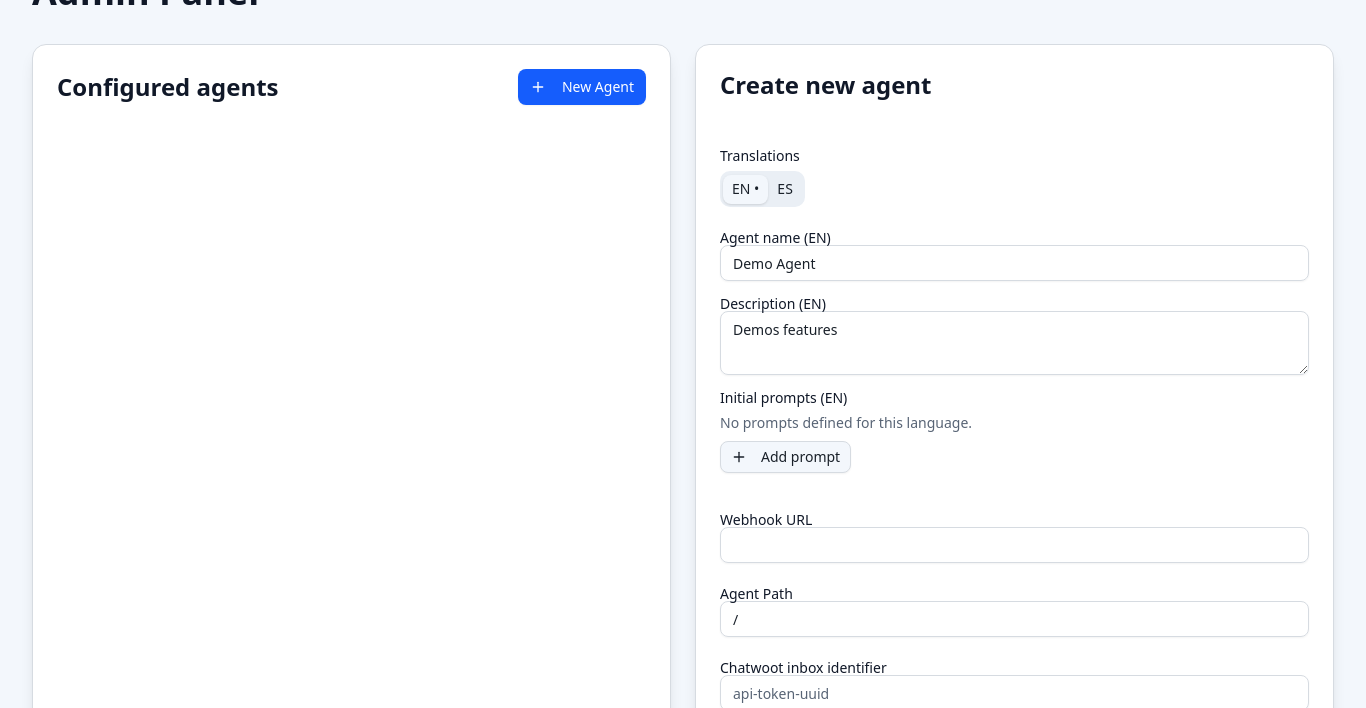
AdminPanelClient › creates a new agent via supabase insert
Earlier steps of the test are not shown.
Click the button "Add prompt" at (786, 457), box [720, 441, 851, 473]
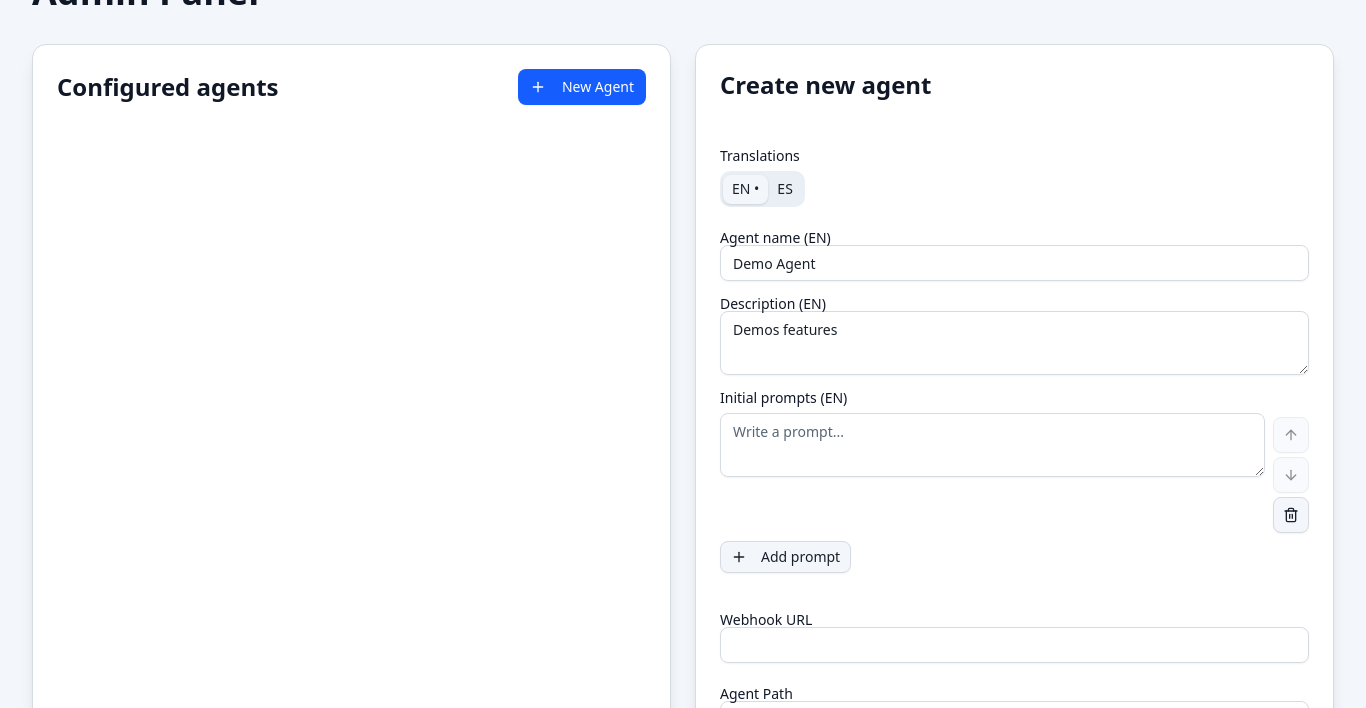
Type "Please describe your issue." into the text box named "Prompt 1 (EN)" at (992, 445), box [720, 413, 1265, 477]
Type "https://example.com/hook" into the field labelled "Webhook URL" at (1014, 645), box [720, 627, 1309, 663]
(page scrolled)
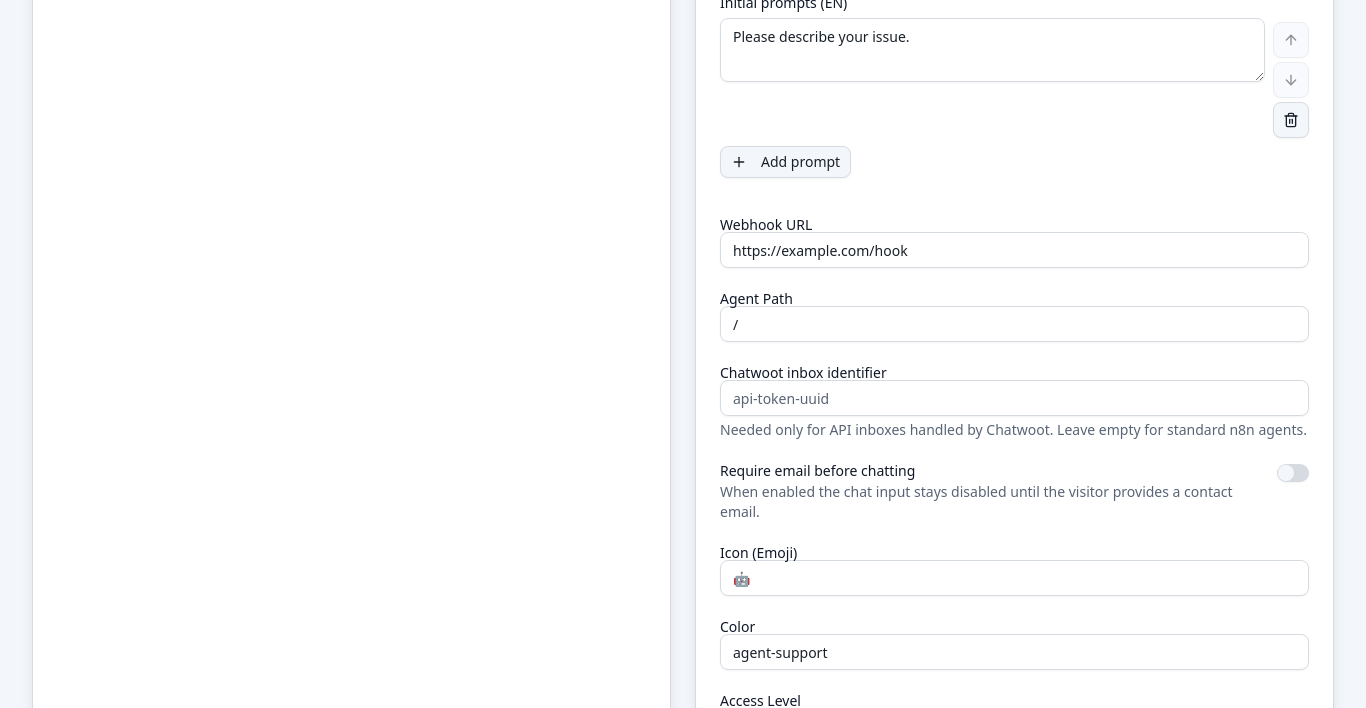
Replace the text in the field labelled "Agent Path" with "/demo" at (1014, 324), box [720, 306, 1309, 342]
Replace the text in the field labelled "Icon (Emoji)" with "✨" at (1014, 578), box [720, 560, 1309, 596]
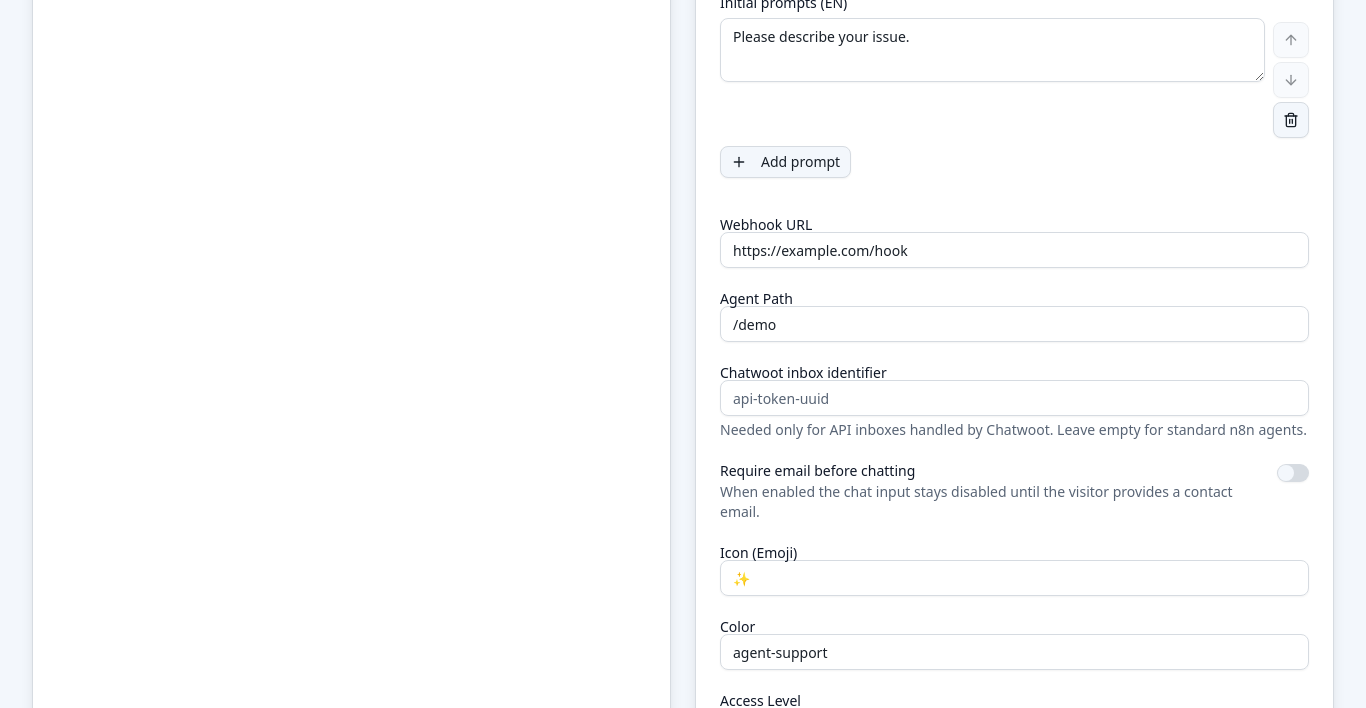
Type "inbox-api" into the field labelled "Chatwoot inbox identifier" at (1014, 398), box [720, 380, 1309, 416]
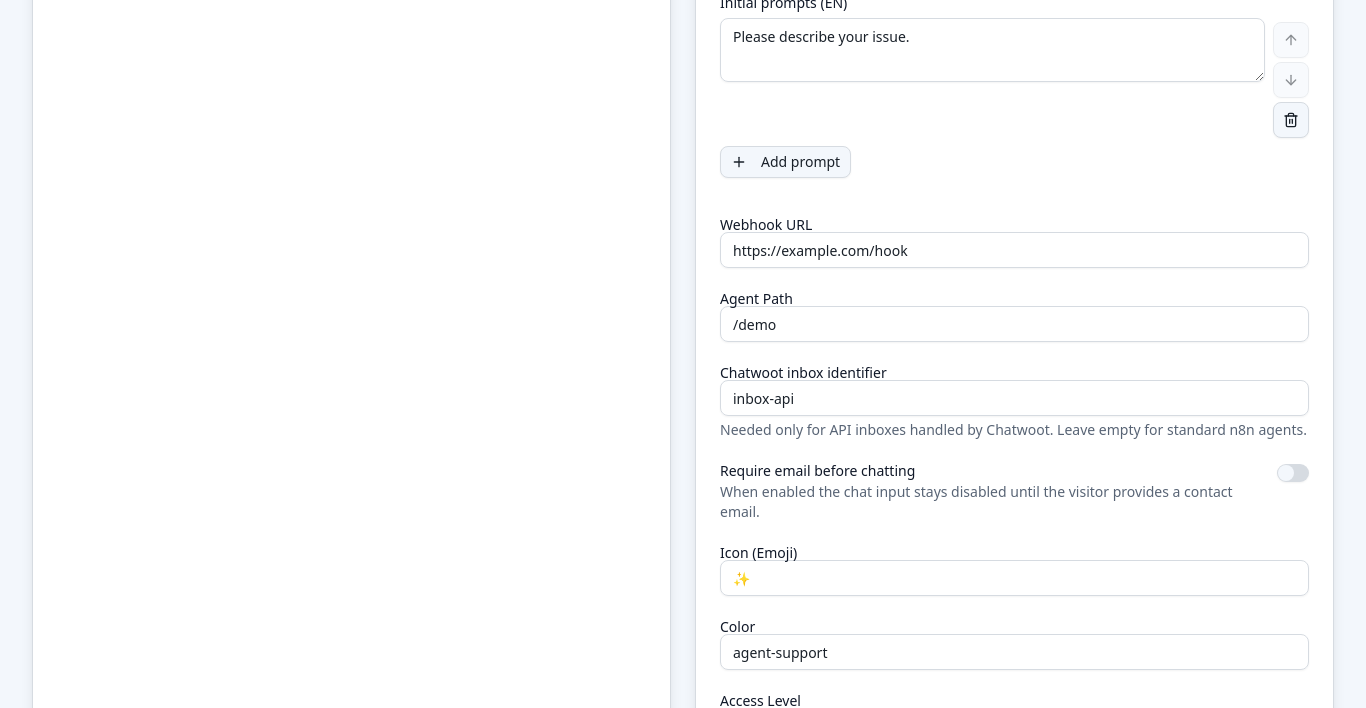
Click the switch named "Require email before chatting" at (1293, 473), box [1277, 464, 1309, 482]
(page scrolled)
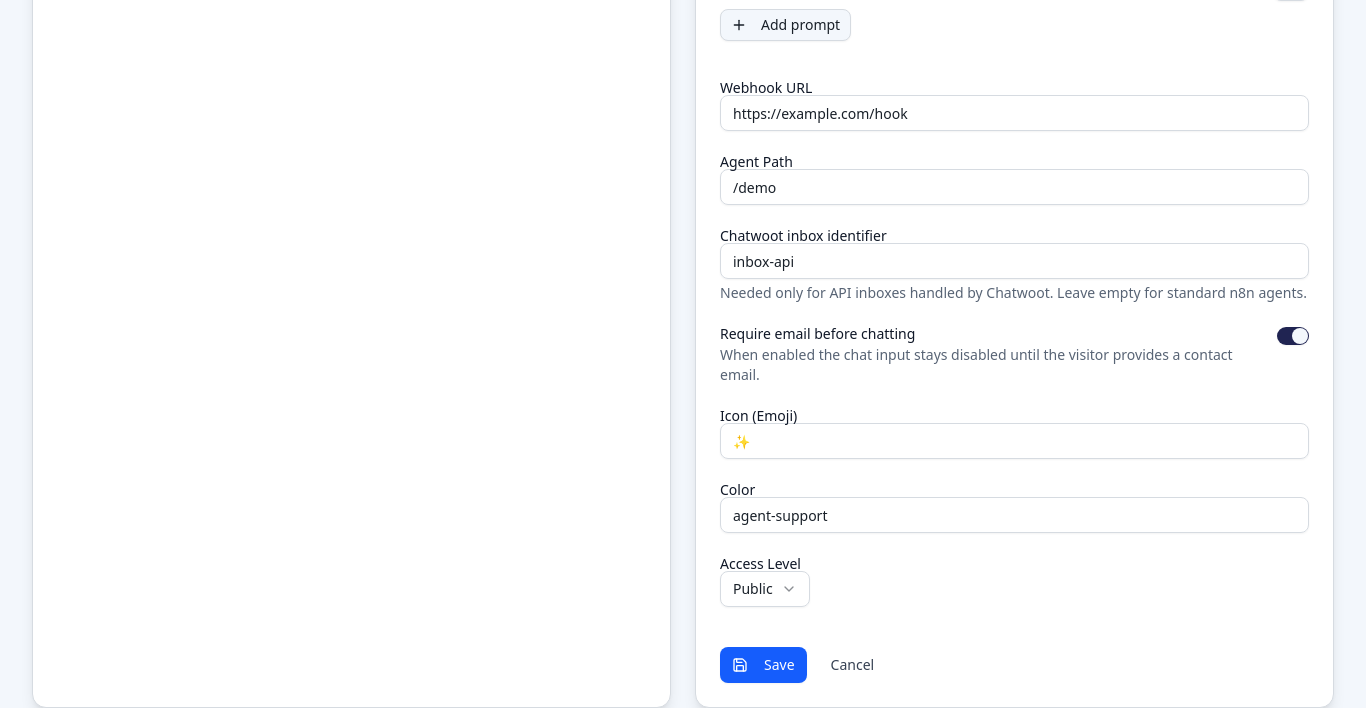
Click the button "Save" at (763, 665), box [720, 647, 807, 683]
(page scrolled)
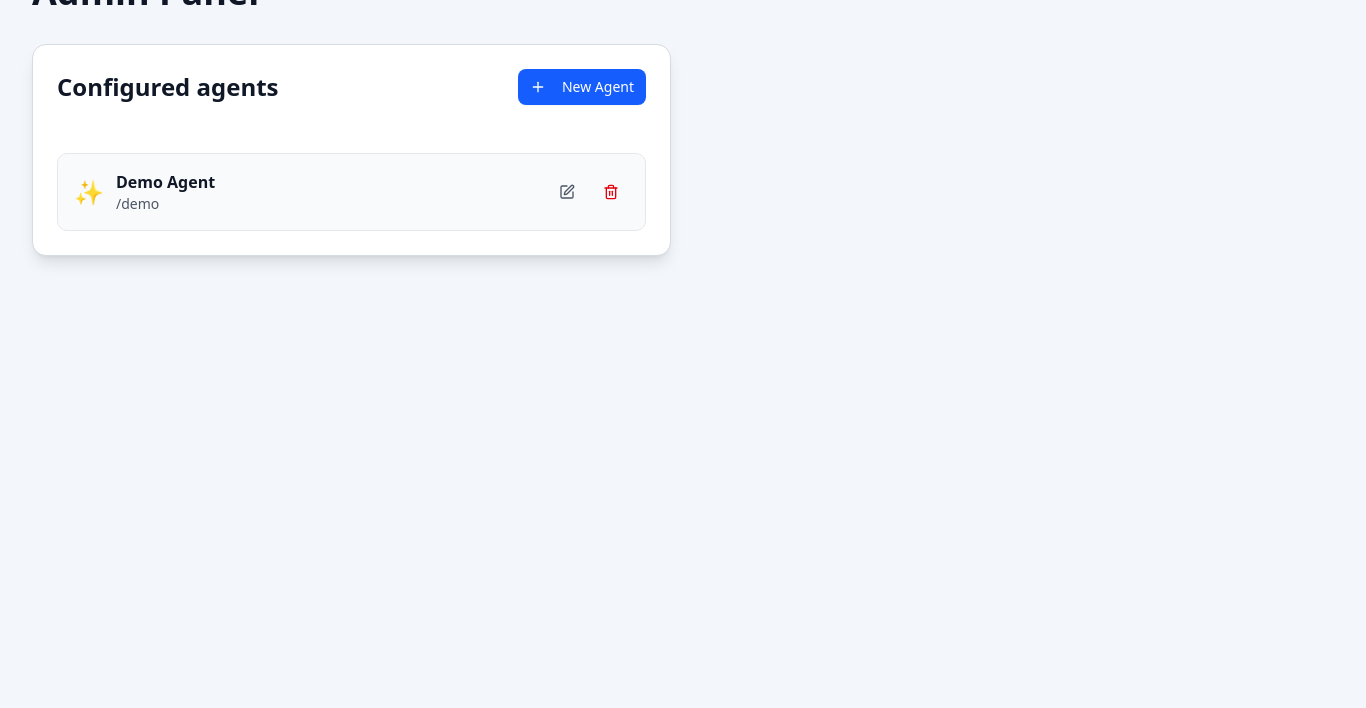
Check: the heading "Demo Agent" is shown, box [116, 170, 215, 194]
